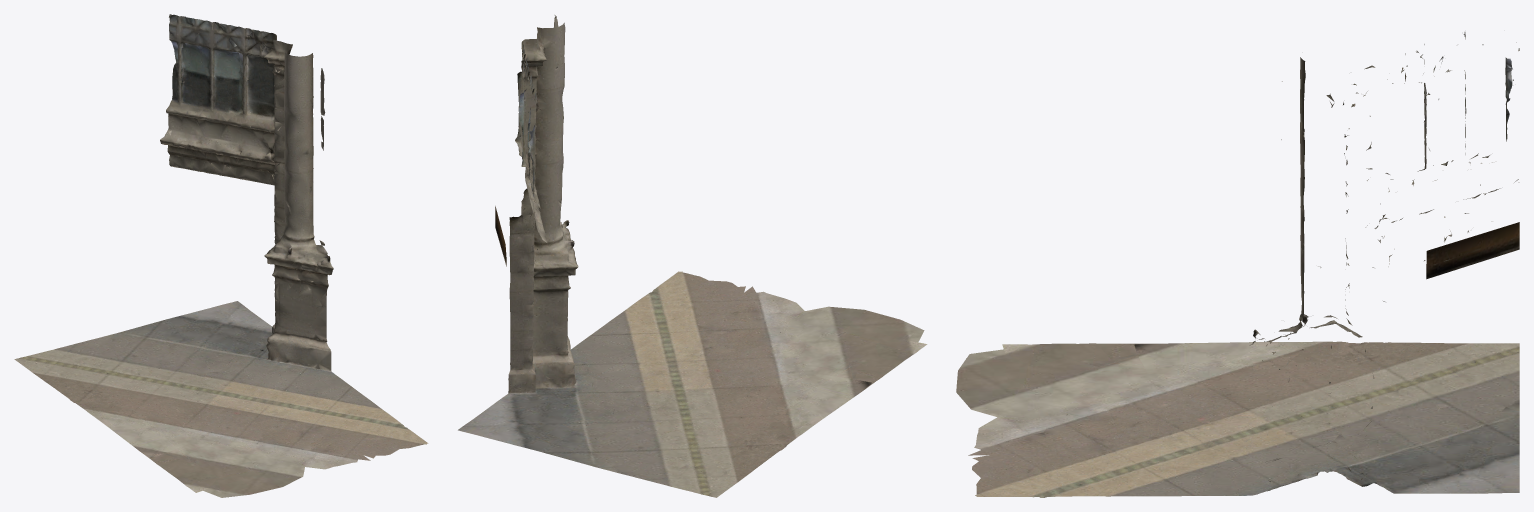
The picture shows the model from 3 angles, left to right: view 1: azimuth 30°, elevation 25°; view 2: azimuth 150°, elevation 25°; view 3: azimuth 270°, elevation 25°; orthographic projection. The views are drawn at different scales.
Size of the model in its own units: 6.65 by 8.78 by 10.21.
Materials: 1 (1 with a texture image).
